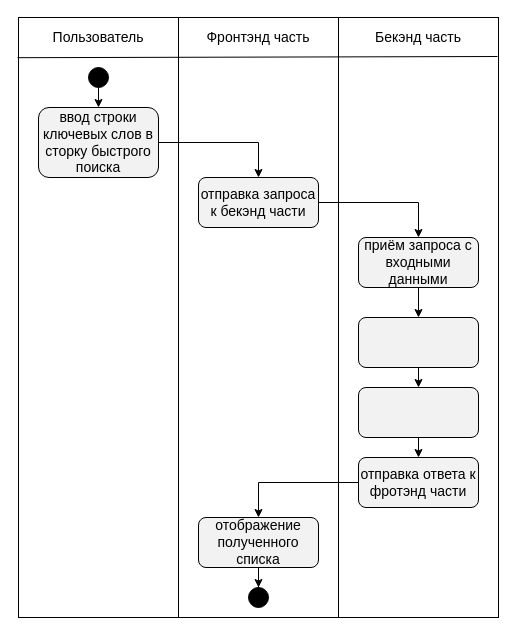
Some shapes in this 516 by 635 pixel diagram are drawn without their labels. Each missing label, with the centre of its shape:
"фильтрация списка докторов" belongs at pixel 418 342.
"формирование ответа" belongs at pixel 418 412.
